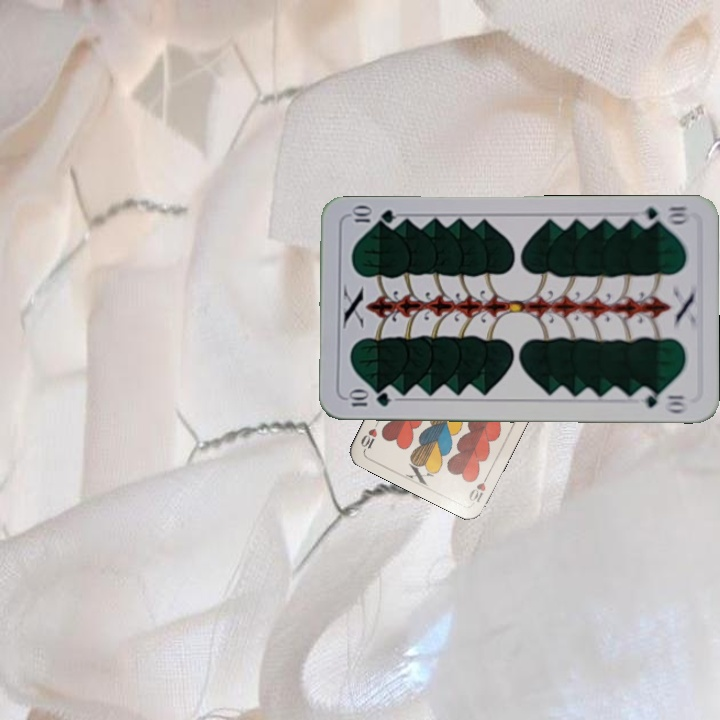G10: (633, 202, 692, 229), (344, 389, 393, 409)
H10: (465, 468, 492, 505)
